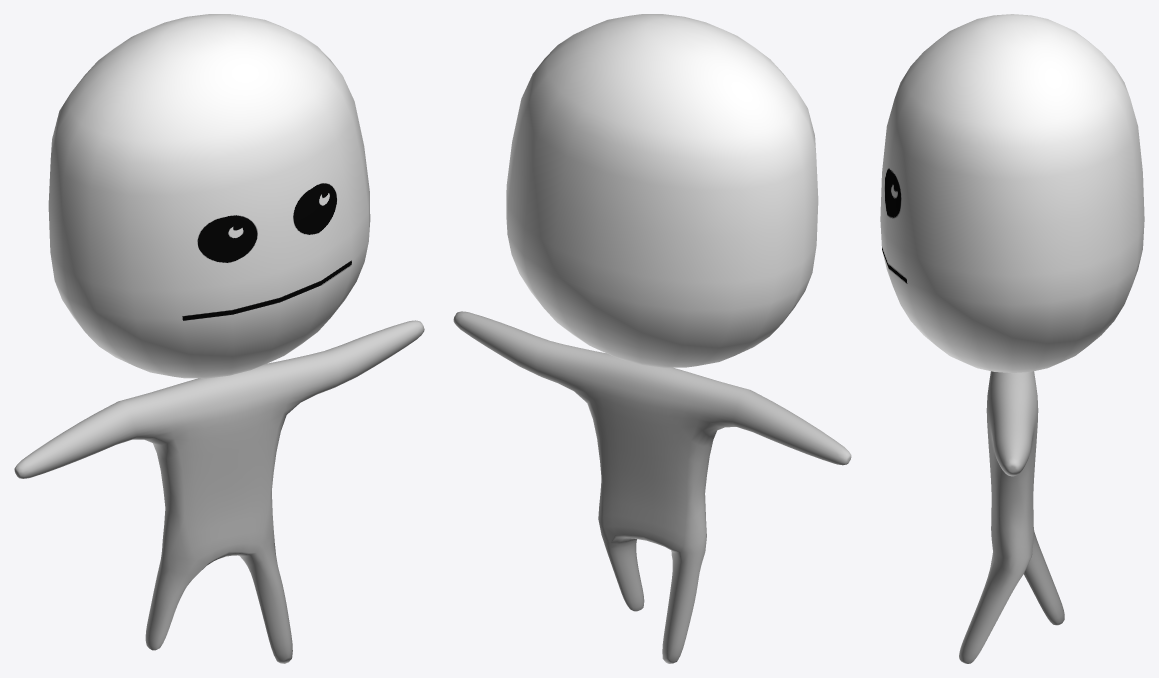
Rendered from Bullfighter Bill (1).fbx.
3 views of the same model, side by side, from view 1: azimuth 30°, elevation 25°; view 2: azimuth 150°, elevation 25°; view 3: azimuth 270°, elevation 25° (orthographic). The views are drawn at different scales.
Parts seen in each view (by area): view 1: pCylinder4; view 2: pCylinder4; view 3: pCylinder4.
Part boxes in pixels (x1,y1,x2,y2): pCylinder4: (14, 14, 424, 663); pCylinder4: (453, 14, 851, 663); pCylinder4: (880, 14, 1144, 663).
Size of the model in its own units: 1.05 by 1.55 by 0.6123.
